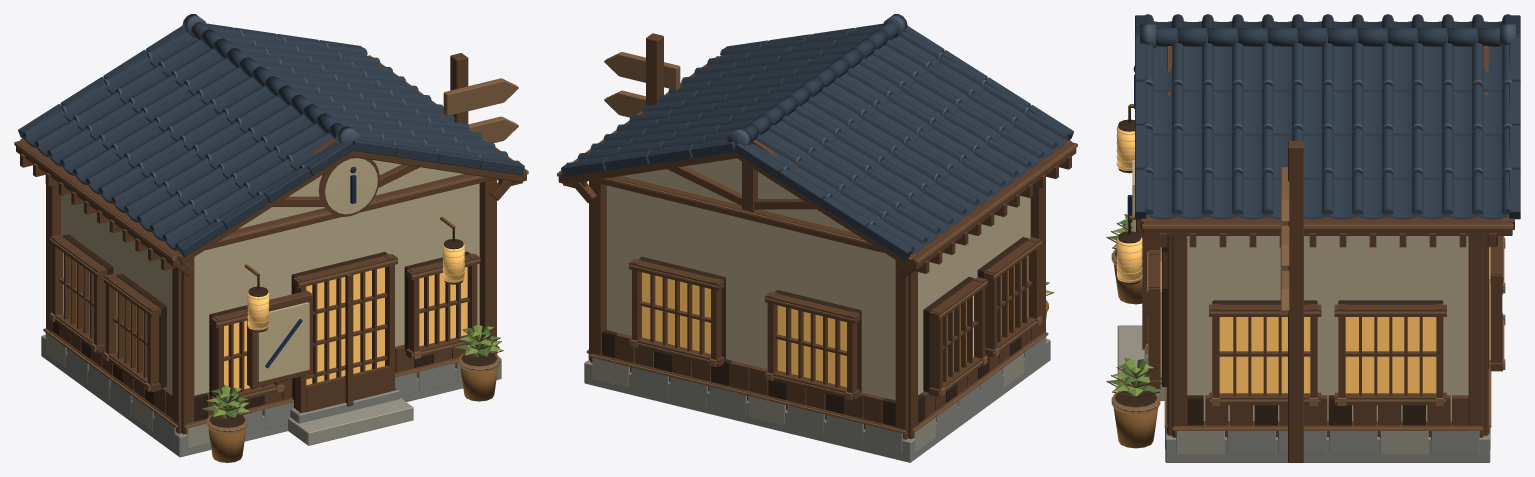
The picture shows the model from 3 angles, left to right: view 1: azimuth 30°, elevation 25°; view 2: azimuth 150°, elevation 25°; view 3: azimuth 270°, elevation 25°; orthographic projection. The views are drawn at different scales.
Parts seen in each view (by area): view 1: compact_junction_hub_geometry; view 2: compact_junction_hub_geometry; view 3: compact_junction_hub_geometry.
Part boxes in pixels (x1,y1,x2,y2): compact_junction_hub_geometry: [14, 14, 528, 462]; compact_junction_hub_geometry: [557, 14, 1077, 462]; compact_junction_hub_geometry: [1106, 14, 1520, 462].
Size of the model in its own units: 1.04 by 0.7202 by 0.7822.
